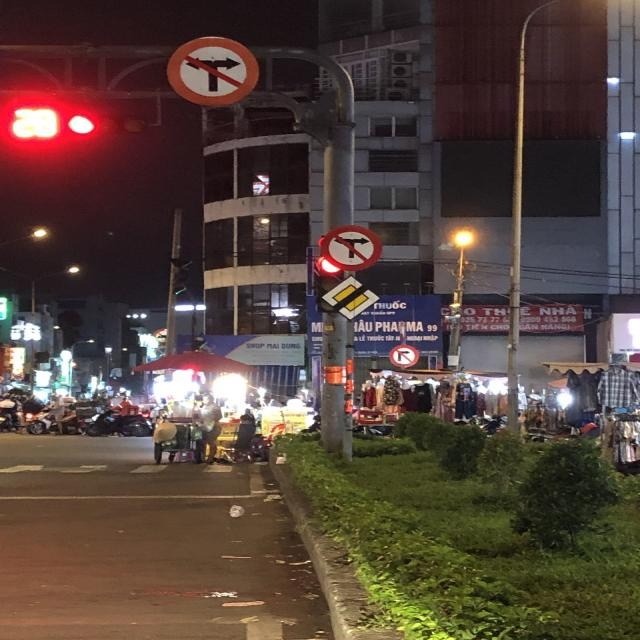Bien bao cam re phai: (388, 340, 424, 370)
